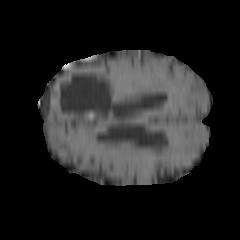glioma: (50, 68, 178, 173)
